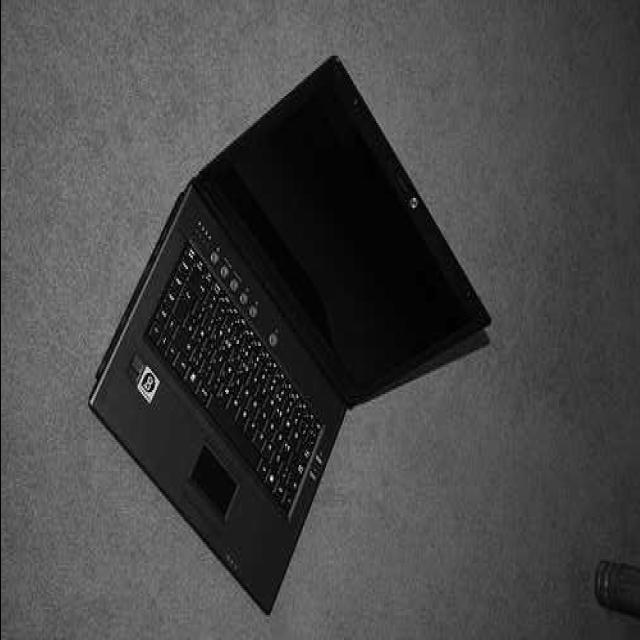laptop: (77, 46, 509, 616)
